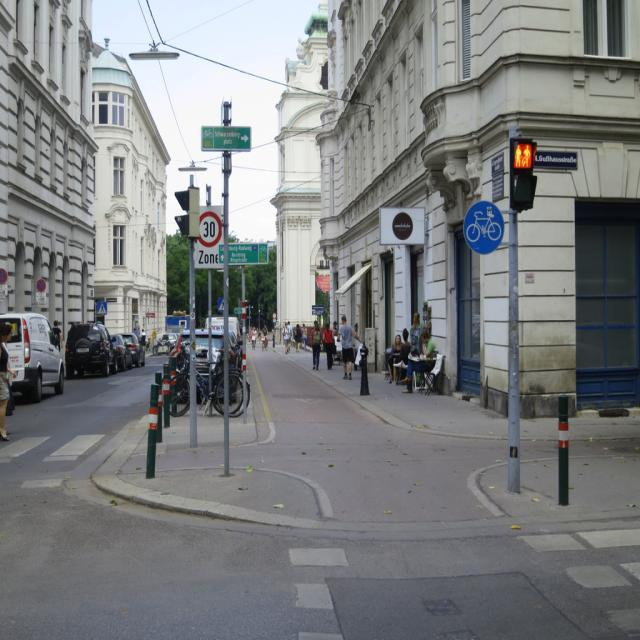traffic light: (511, 138, 536, 207)
